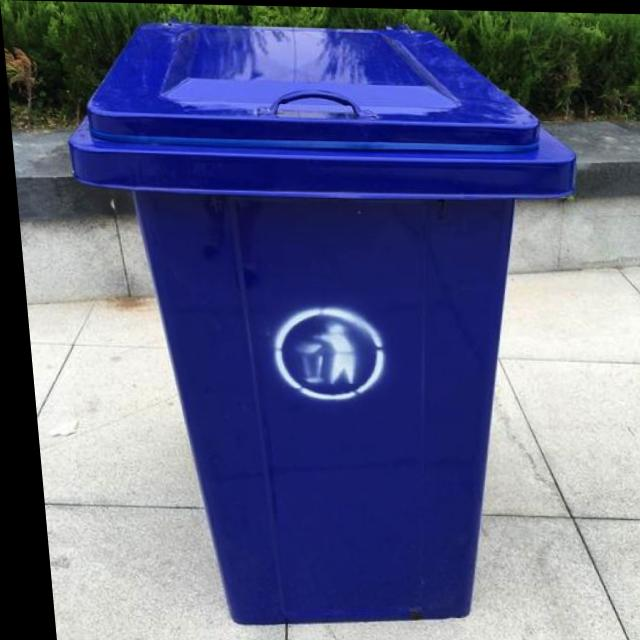garbage_bin: (56, 19, 605, 632)
